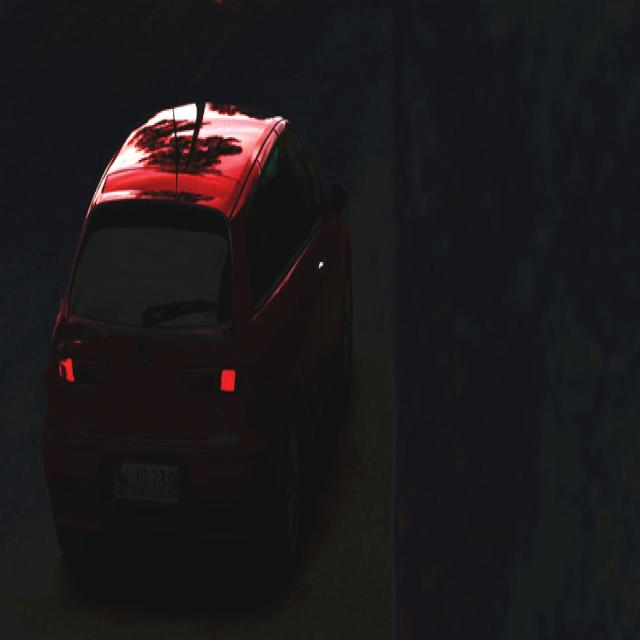Car: (45, 99, 357, 590)
